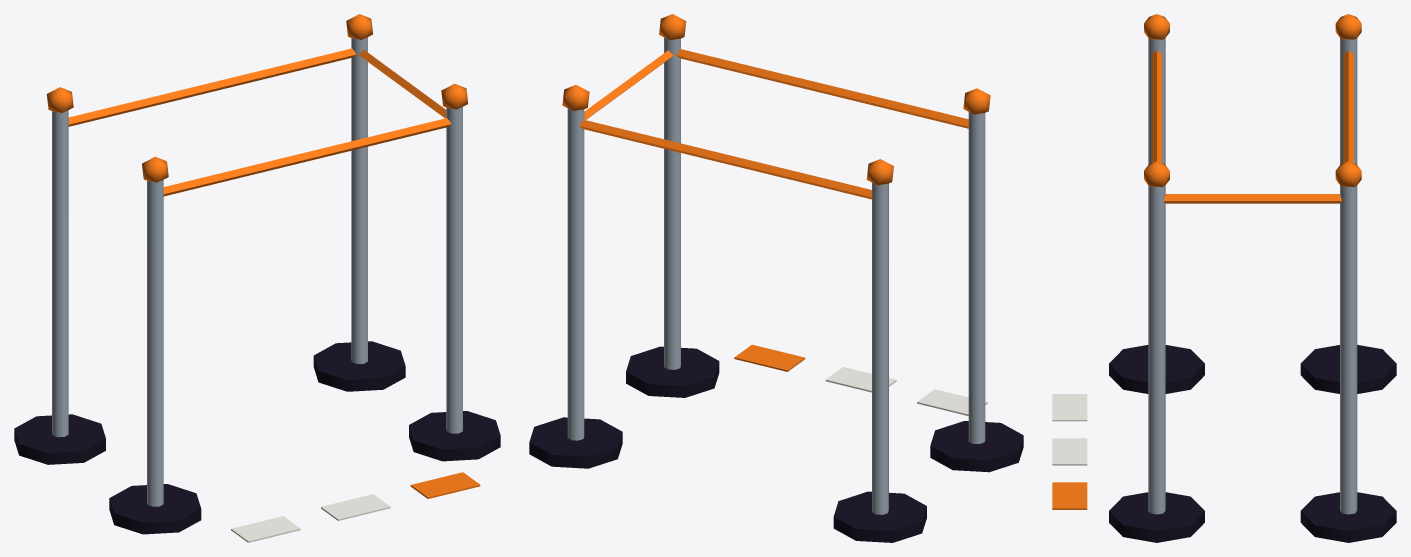
Rendered from station_special_ausstattung_3_2.glb.
3 renders of one model, left to right at view 1: azimuth 30°, elevation 25°; view 2: azimuth 150°, elevation 25°; view 3: azimuth 270°, elevation 25°, orthographic.
Visible parts, largest first — view 1: station_special_ausstattung_3_2; view 2: station_special_ausstattung_3_2; view 3: station_special_ausstattung_3_2.
Boxes of the visible parts, x1=… form: station_special_ausstattung_3_2: x1=14, y1=14, x2=500, y2=542; station_special_ausstattung_3_2: x1=529, y1=14, x2=1023, y2=542; station_special_ausstattung_3_2: x1=1052, y1=14, x2=1396, y2=542.
Size of the model in its own units: 1.02 by 0.915 by 0.79.
